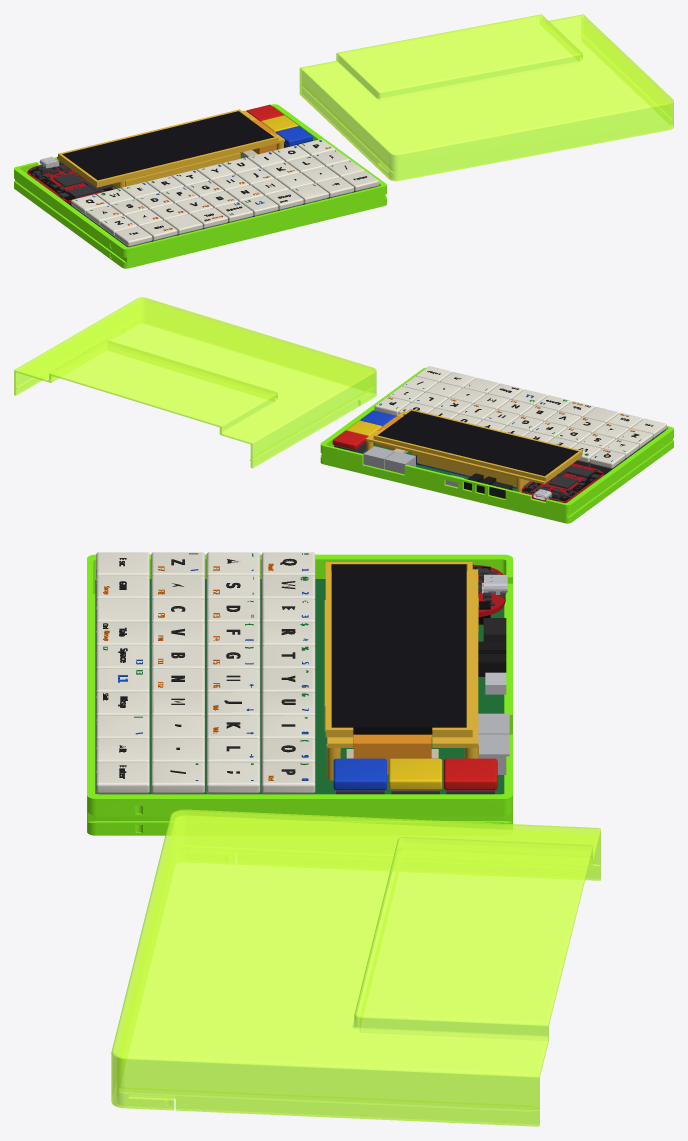
File: beside_lime.glb
3 renders of one model, top to bottom at view 1: azimuth 30°, elevation 25°; view 2: azimuth 150°, elevation 25°; view 3: azimuth 270°, elevation 25°, orthographic. The views are drawn at different scales.
Visible parts, largest first — view 1: Lid, Internals, Tray; view 2: Lid, Internals, Tray; view 3: Lid, Internals, Tray.
Part boxes in pixels (x1,y1,x2,y2): Lid: (299, 14, 673, 181); Internals: (27, 104, 379, 247); Tray: (14, 104, 386, 268); Lid: (14, 297, 376, 468); Internals: (332, 366, 666, 502); Tray: (320, 367, 673, 523); Lid: (111, 809, 600, 1126); Internals: (95, 552, 509, 794); Tray: (87, 554, 512, 835).
Size of the model in its own units: 0.3903 by 0.0227 by 0.1583.
